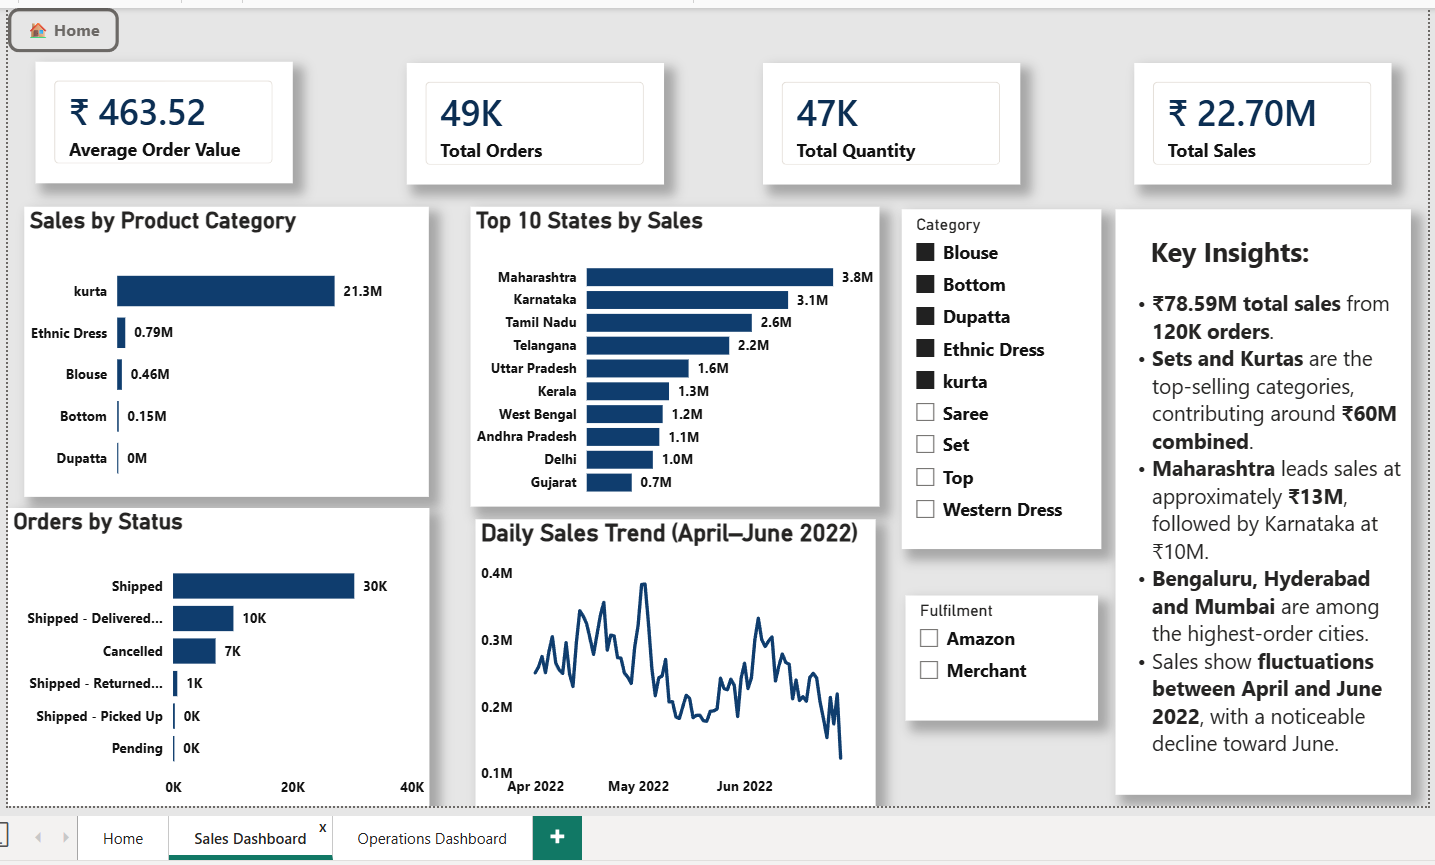

Layout of this report page (visuals, bound fields, positions):
{"tool":"powerbi","page":{"name":"Sales Dashboard","canvas":[1280,720],"ordinal":1},"visuals":[{"type":"actionButton","box":[0,0,100,40],"z":0},{"type":"cardVisual","fields":{"Data":["Amazon Sale Report.Average Order Value"]},"box":[24.4,48.8,231.9,109.8],"z":1000},{"type":"cardVisual","fields":{"Data":["Amazon Sale Report.Total Quantity"]},"box":[680.6,49.4,231.9,109.8],"z":2000},{"type":"cardVisual","fields":{"Data":["Amazon Sale Report.Total Orders"]},"box":[359.6,49.6,231.9,109.8],"z":3000},{"type":"cardVisual","fields":{"Data":["Amazon Sale Report.Total Sales"]},"box":[1015.5,49.6,231.9,109.8],"z":4000},{"type":"clusteredBarChart","title":"Sales by Product Category","fields":{"Category":["Amazon Sale Report.Category"],"Y":["Sum(Amazon Sale Report.Amount)"]},"box":[15.1,179.1,365.1,261.6],"z":5000},{"type":"clusteredBarChart","title":"Top 10 States by Sales","fields":{"Category":["Amazon Sale Report.ship-state"],"Y":["Sum(Amazon Sale Report.Amount)"]},"box":[417.4,179.1,369.1,270.3],"z":6000},{"type":"lineChart","title":"Daily Sales Trend (April–June 2022)","fields":{"Y":["Sum(Amazon Sale Report.Amount)"],"Category":["Amazon Sale Report.Date"]},"box":[422.1,460.5,360.5,259.3],"z":7000},{"type":"clusteredBarChart","title":"Orders by Status","fields":{"Y":["Count(Amazon Sale Report.Order ID)"],"Category":["Amazon Sale Report.Status"]},"box":[0,451.2,380.2,269.8],"z":8000},{"type":"slicer","fields":{"Values":["Amazon Sale Report.Category"]},"box":[805.8,181.4,179.8,306],"z":9000},{"type":"slicer","fields":{"Values":["Amazon Sale Report.Fulfilment"]},"box":[809.3,530.2,173.3,112.8],"z":10000},{"type":"textbox","box":[998.8,181.4,266.3,527.9],"z":11000}]}

Visuals, with their boxes on the page's 1280x720 design canvas (x1, y1, x2, y2). These are canvas units, not pixel positions in the 1435x865 screenshot, which may show the page scaled, cropped or inside an application window:
actionButton: [0, 0, 100, 40]
cardVisual - Amazon Sale Report.Average Order Value: [24, 49, 256, 159]
cardVisual - Amazon Sale Report.Total Quantity: [681, 49, 912, 159]
cardVisual - Amazon Sale Report.Total Orders: [360, 50, 592, 159]
cardVisual - Amazon Sale Report.Total Sales: [1016, 50, 1247, 159]
"Sales by Product Category" clusteredBarChart: [15, 179, 380, 441]
"Top 10 States by Sales" clusteredBarChart: [417, 179, 786, 449]
"Daily Sales Trend (April–June 2022)" lineChart: [422, 460, 783, 720]
"Orders by Status" clusteredBarChart: [0, 451, 380, 721]
slicer - Amazon Sale Report.Category: [806, 181, 986, 487]
slicer - Amazon Sale Report.Fulfilment: [809, 530, 983, 643]
textbox: [999, 181, 1265, 709]
